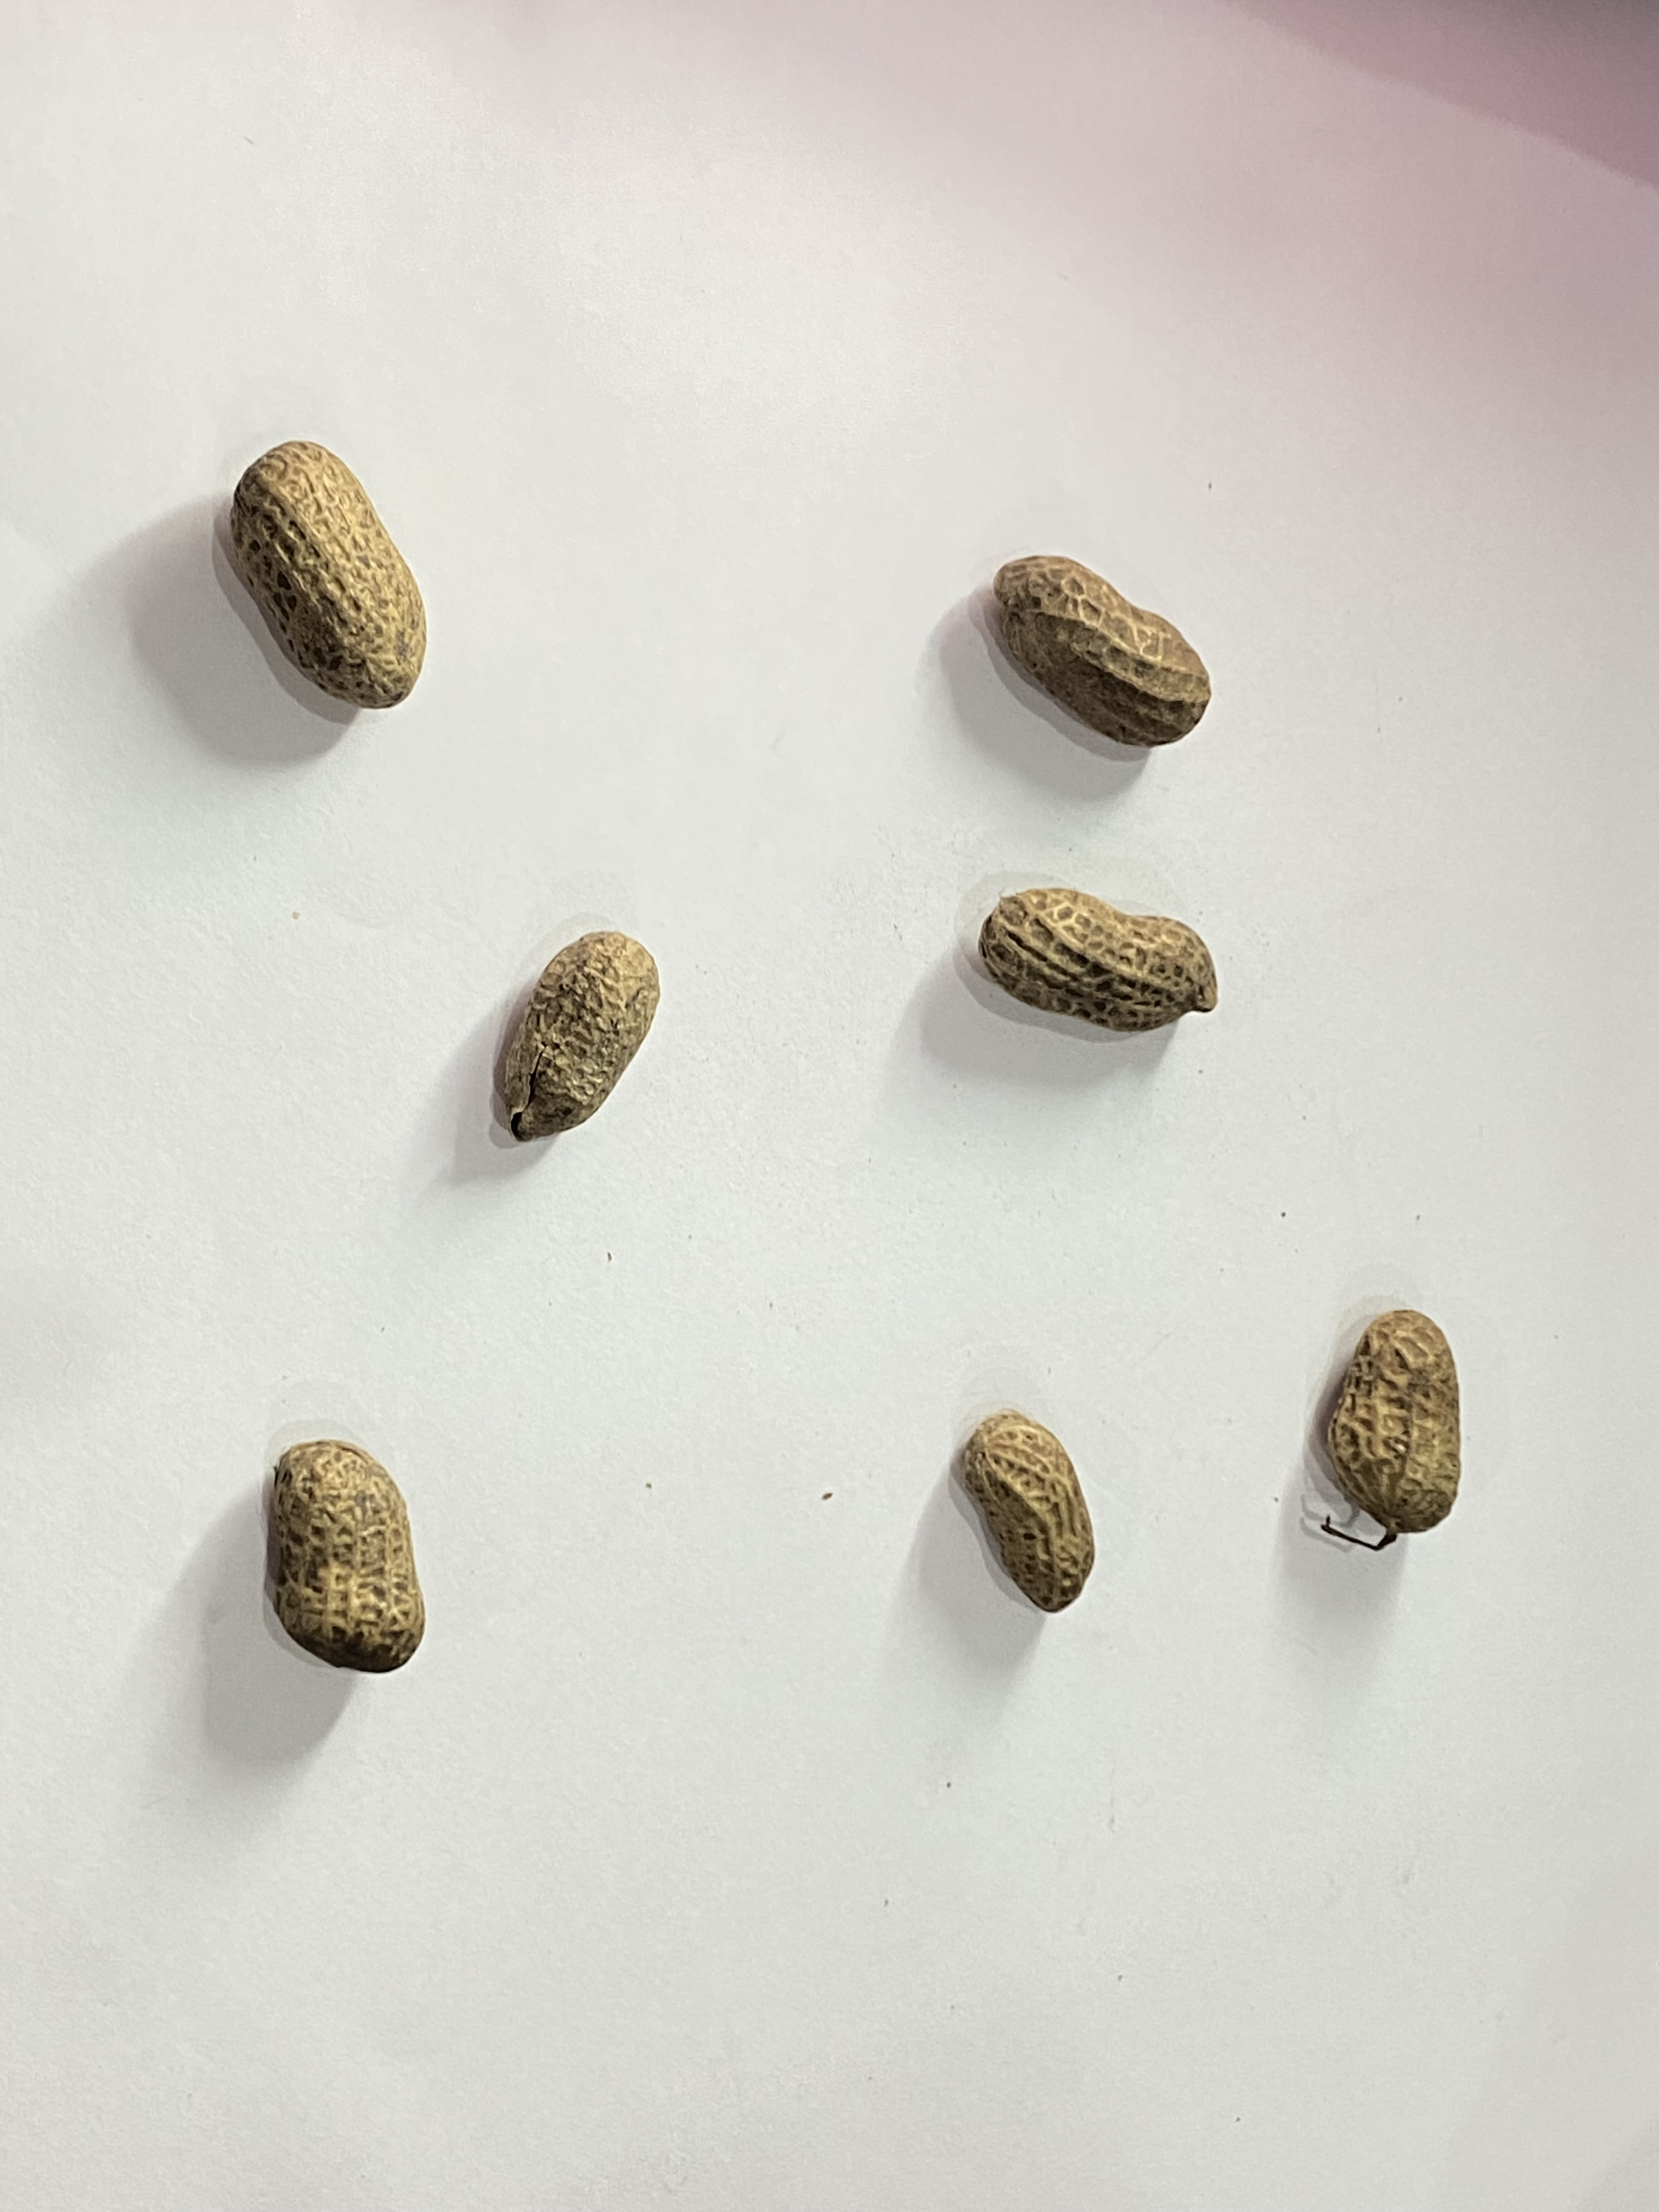kacang1: (1293, 1263, 1504, 1606), (450, 918, 711, 1191), (920, 1407, 1175, 1613)
kacang2: (169, 1428, 554, 1698), (197, 369, 450, 735), (917, 848, 1267, 1071), (969, 514, 1225, 787)
